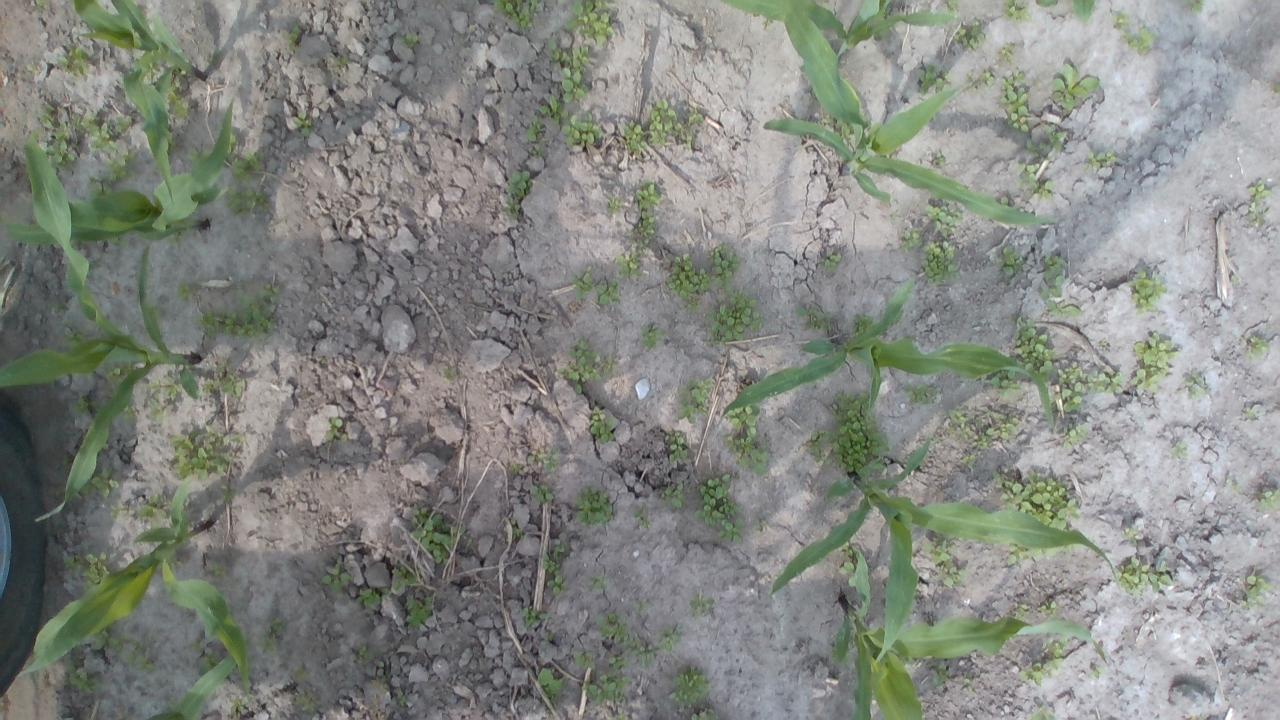Maize: (0, 132, 202, 523), (760, 9, 1060, 229), (769, 439, 1120, 598), (718, 280, 1057, 430), (16, 480, 252, 692), (832, 548, 1108, 720), (0, 94, 234, 244), (72, 0, 206, 106), (716, 0, 956, 58), (138, 654, 264, 720)
Weeds: (829, 390, 891, 479), (991, 469, 1081, 529), (199, 284, 281, 343), (1007, 315, 1057, 384), (706, 287, 764, 344), (408, 504, 462, 564), (170, 426, 227, 481), (558, 340, 616, 394), (1130, 332, 1178, 394), (693, 474, 743, 530), (1048, 63, 1100, 111), (997, 71, 1032, 137), (564, 0, 612, 48), (664, 253, 710, 302), (65, 643, 109, 693), (38, 121, 76, 174), (1048, 362, 1086, 413), (666, 664, 710, 707), (1126, 270, 1167, 316), (920, 240, 960, 286), (726, 435, 769, 477), (574, 486, 616, 527), (676, 378, 712, 424), (582, 672, 632, 705), (975, 410, 1018, 448), (72, 111, 111, 151), (561, 111, 604, 146), (495, 0, 541, 32), (77, 463, 118, 498), (105, 140, 137, 184), (224, 186, 270, 216), (648, 97, 676, 145), (1018, 658, 1064, 687), (1114, 557, 1150, 594), (709, 245, 740, 287), (80, 552, 112, 592), (547, 38, 589, 68), (55, 45, 91, 80), (134, 494, 168, 530), (986, 366, 1022, 400), (926, 202, 964, 234), (190, 638, 222, 676), (122, 640, 156, 674), (229, 151, 265, 183), (588, 406, 618, 444), (1120, 25, 1155, 57), (1040, 254, 1064, 300), (536, 94, 570, 126), (725, 403, 760, 434), (1240, 574, 1270, 610), (918, 64, 951, 96), (536, 667, 566, 702), (214, 366, 246, 398), (596, 612, 630, 642), (944, 406, 972, 442), (92, 625, 124, 656), (798, 305, 833, 333), (953, 22, 987, 50), (406, 596, 434, 630), (562, 66, 588, 102), (624, 638, 656, 667), (824, 113, 854, 143), (322, 562, 352, 592), (998, 244, 1026, 276), (570, 266, 596, 300), (806, 430, 830, 466), (1087, 371, 1123, 395), (1014, 160, 1040, 193), (904, 384, 940, 407), (664, 430, 689, 463), (638, 323, 666, 352), (102, 362, 134, 387), (634, 182, 662, 210), (661, 481, 688, 510), (1062, 423, 1090, 450), (1082, 150, 1116, 172), (1006, 542, 1037, 566), (1182, 372, 1210, 398), (616, 250, 641, 279), (624, 120, 646, 152), (506, 170, 532, 197), (718, 518, 744, 545), (595, 279, 621, 305), (1244, 334, 1270, 360), (922, 541, 950, 565), (1070, 0, 1098, 24), (1042, 124, 1066, 152), (392, 566, 416, 594), (1046, 300, 1083, 318), (518, 606, 549, 627), (1247, 179, 1272, 204), (851, 312, 875, 338), (1004, 0, 1030, 24), (538, 447, 562, 473), (165, 88, 188, 115), (1150, 566, 1172, 594), (116, 392, 136, 422), (89, 174, 112, 199), (658, 627, 681, 652), (290, 110, 312, 136), (940, 566, 966, 588), (690, 596, 716, 618), (147, 394, 166, 424), (1036, 544, 1076, 558), (900, 228, 922, 253), (838, 560, 858, 587), (931, 662, 950, 690), (358, 587, 381, 610), (1256, 489, 1280, 511), (162, 374, 182, 400), (323, 416, 343, 442), (638, 211, 656, 238), (1046, 636, 1068, 658), (280, 25, 301, 48), (62, 328, 86, 348), (546, 574, 566, 598), (36, 103, 54, 128), (526, 120, 546, 142), (112, 115, 134, 135), (532, 485, 554, 504), (1028, 706, 1057, 720), (574, 649, 594, 669), (689, 708, 722, 720), (1120, 526, 1142, 544), (1112, 10, 1130, 32), (294, 694, 316, 712), (542, 552, 560, 574), (185, 147, 209, 163), (175, 281, 192, 303), (146, 57, 162, 80), (1247, 207, 1267, 225), (834, 538, 854, 556), (72, 397, 90, 417), (206, 560, 226, 578), (820, 254, 840, 272), (1025, 140, 1045, 158), (1038, 180, 1056, 200), (674, 123, 691, 144), (1170, 441, 1188, 460), (255, 636, 272, 656), (873, 26, 894, 42), (63, 555, 79, 576), (356, 643, 372, 664), (630, 511, 648, 529), (504, 196, 520, 216), (110, 234, 130, 249), (1000, 43, 1014, 64), (270, 616, 286, 634), (592, 575, 608, 593), (1182, 0, 1204, 13), (172, 68, 187, 87), (168, 230, 185, 246), (1038, 602, 1056, 617), (399, 34, 418, 48), (552, 538, 564, 560), (688, 110, 704, 126), (608, 656, 626, 670), (608, 199, 624, 214), (529, 144, 545, 158), (108, 504, 122, 520), (686, 299, 702, 313), (980, 70, 994, 86), (441, 366, 455, 382), (919, 435, 943, 444), (633, 600, 648, 614), (228, 698, 242, 712), (882, 148, 898, 160), (961, 454, 977, 466), (996, 195, 1009, 208), (166, 694, 178, 708), (932, 152, 944, 166), (394, 690, 406, 704), (512, 526, 524, 540), (1036, 0, 1056, 8), (946, 0, 960, 11), (1242, 407, 1256, 418), (94, 398, 104, 413), (1014, 607, 1024, 622), (962, 676, 976, 686), (761, 16, 772, 28), (232, 432, 243, 443), (511, 463, 522, 474), (223, 493, 233, 505), (203, 382, 213, 393), (1092, 666, 1100, 679), (1232, 484, 1244, 492), (230, 132, 238, 144), (864, 118, 872, 130), (336, 57, 349, 64), (36, 0, 48, 7), (616, 713, 626, 720), (378, 660, 385, 668)
